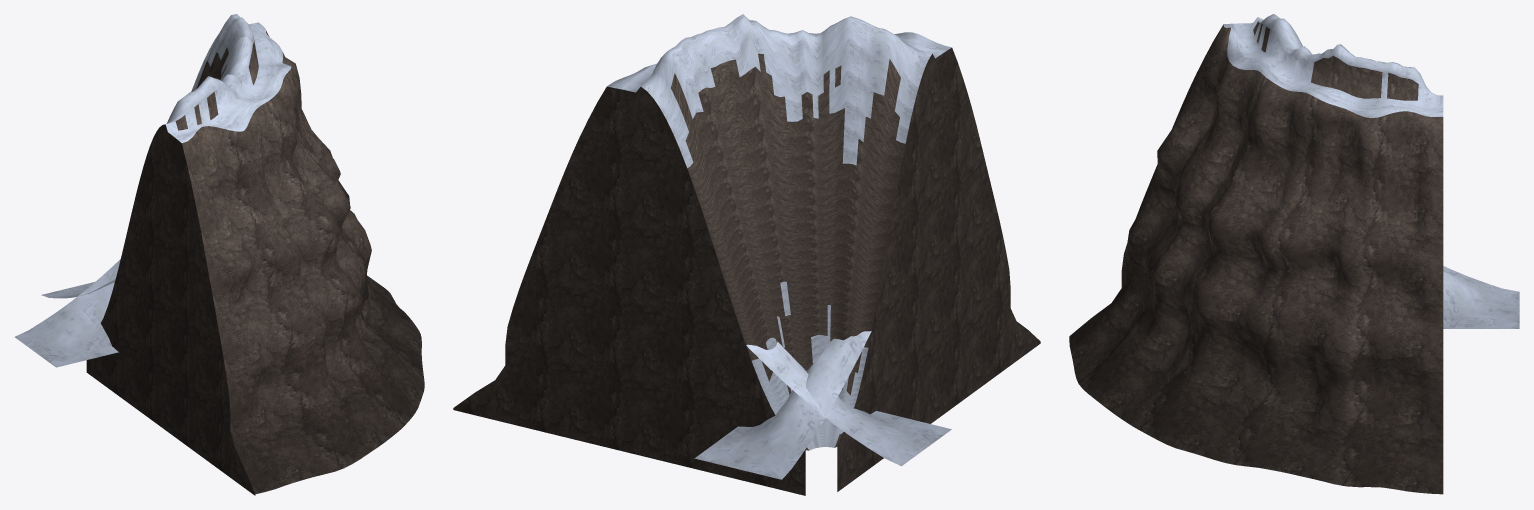
Rendered from seacliff_outer_h8_v5_winter.glb.
3 views of the same model, side by side, from view 1: azimuth 30°, elevation 25°; view 2: azimuth 150°, elevation 25°; view 3: azimuth 270°, elevation 25° (orthographic). The views are drawn at different scales.
Parts seen in each view (by area): view 1: seacliff_outer_h8; view 2: seacliff_outer_h8; view 3: seacliff_outer_h8.
Boxes of the visible parts, left/top/right/bottom form: seacliff_outer_h8: left=15, top=14, right=424, bottom=495; seacliff_outer_h8: left=453, top=14, right=1040, bottom=495; seacliff_outer_h8: left=1069, top=14, right=1519, bottom=494.
Bounding box in the file's own units: 12.29 × 10.69 × 12.29.
Materials: 2 (2 with a texture image).
